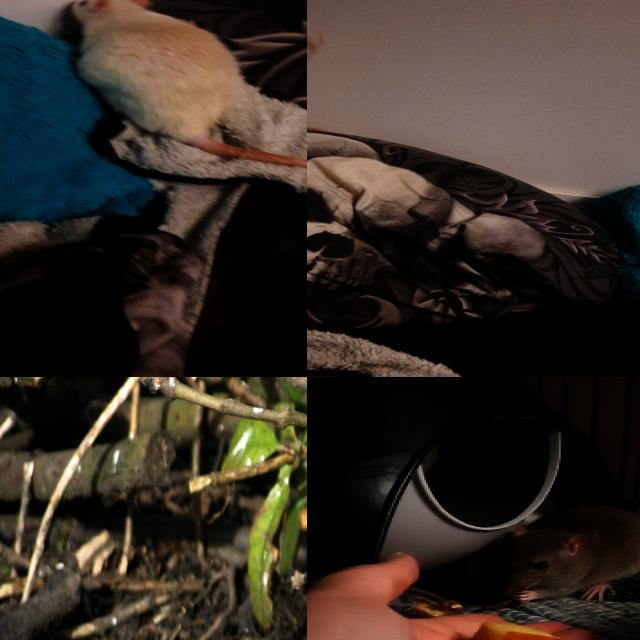rat: (70, 0, 240, 142), (487, 499, 640, 606)
